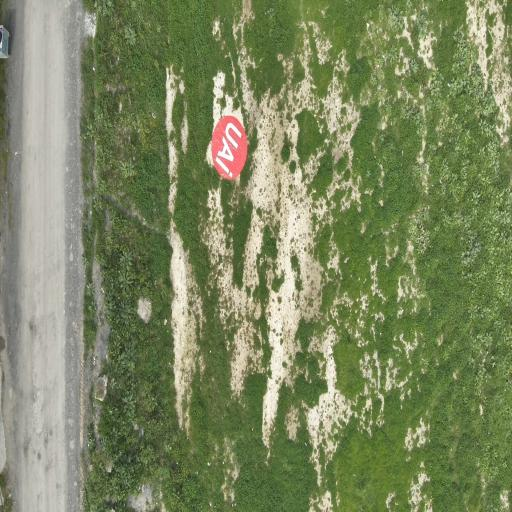UAI: (212, 116, 247, 179)
